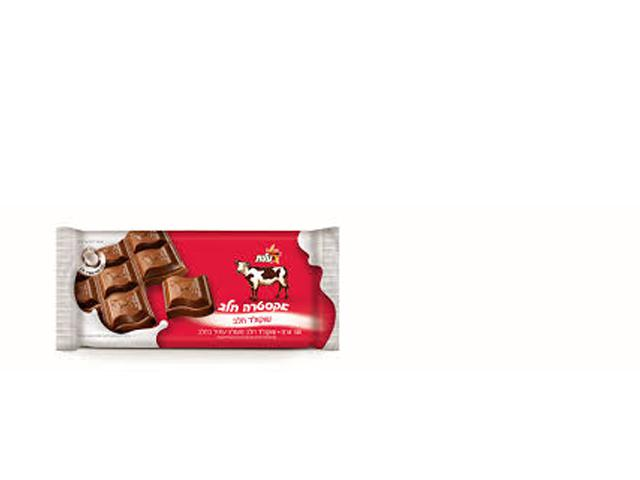chocolate: (50, 243, 385, 417)
